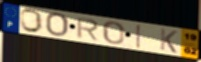I: (135, 24, 142, 50)
K: (159, 27, 179, 54)
O: (45, 12, 70, 38), (20, 8, 45, 34), (102, 21, 126, 45)
R: (76, 17, 101, 42)
